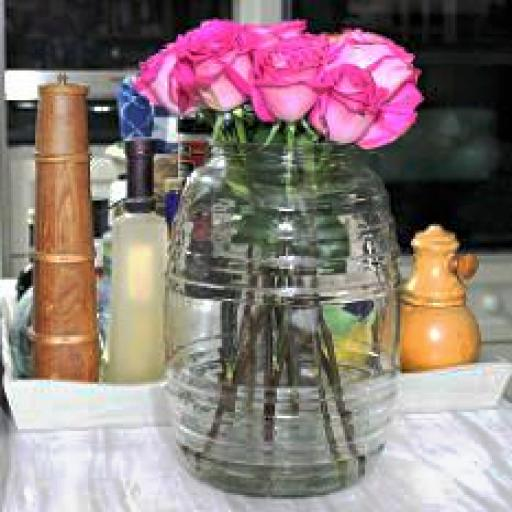rose: (310, 60, 387, 143), (251, 40, 323, 122), (178, 40, 261, 111)
